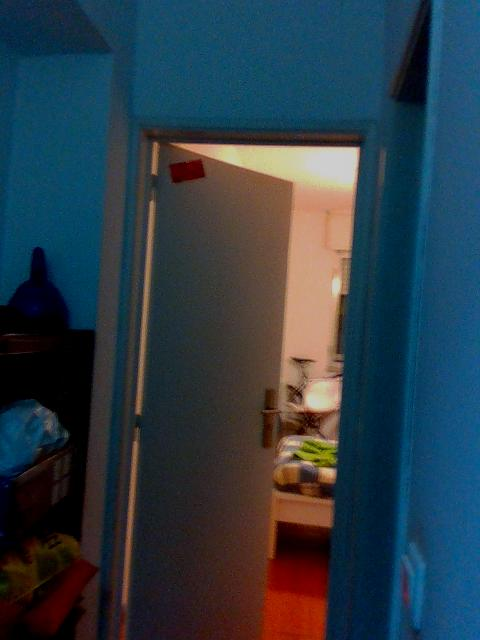semi_door: (97, 113, 378, 639)
